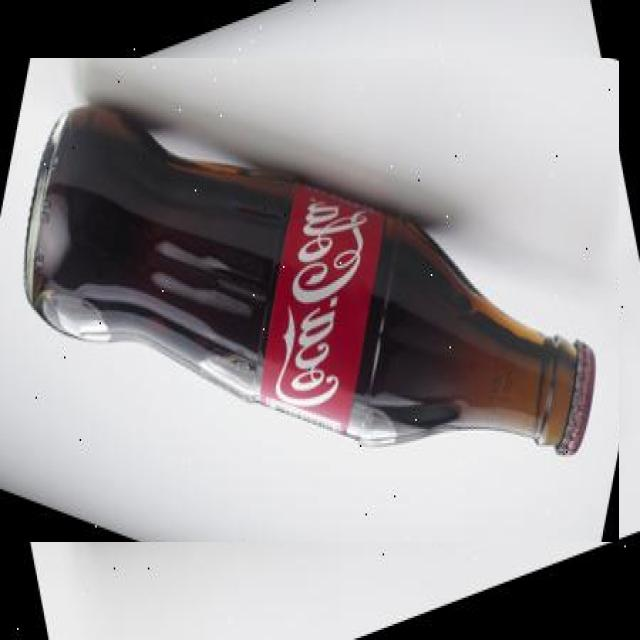coca-cola: (0, 58, 619, 542)
